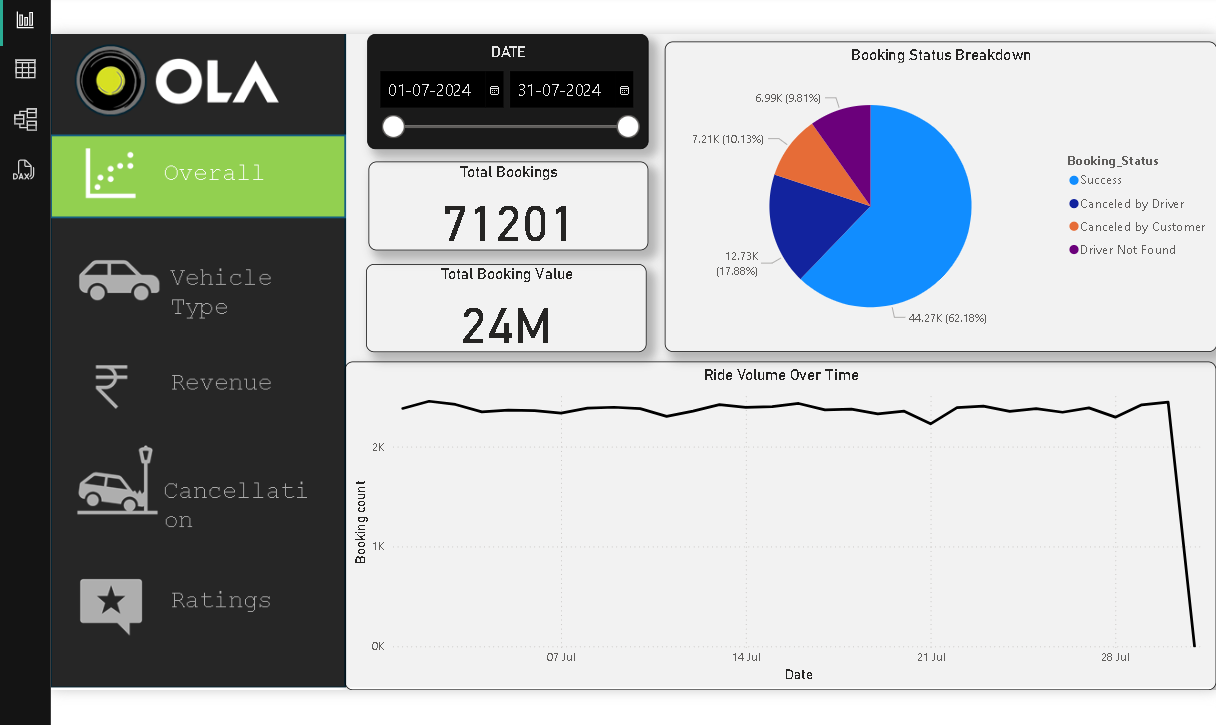

Layout of this report page (visuals, bound fields, positions):
{"tool":"powerbi","page":{"name":"overall","canvas":[1280,720],"ordinal":0},"visuals":[{"type":"actionButton","box":[0,325.2,322.7,88.3],"z":0},{"type":"actionButton","box":[0,455.2,322.7,88.3],"z":1000},{"type":"actionButton","box":[0,236.8,322.7,88.3],"z":2000},{"type":"actionButton","box":[0,112.9,322.7,88.3],"z":3000},{"type":"actionButton","box":[0,580.4,322.7,88.3],"z":4000},{"type":"lineChart","title":"Ride Volume Over Time","fields":{"Y":["CountNonNull(July.Booking_ID)"],"Category":["July.Date"]},"box":[322.7,359.5,957.1,360.7],"z":5000},{"type":"pieChart","title":"Booking Status Breakdown","fields":{"Category":["July.Booking_Status"],"Y":["CountNonNull(July.Booking_Status)"]},"box":[673.6,8.6,606.1,341.1],"z":6000},{"type":"slicer","title":"DATE","fields":{"Values":["July.Date"]},"box":[347.2,0,308.7,126.2],"z":7000},{"type":"card","title":"Total Bookings","fields":{"Values":["CountNonNull(July.Booking_ID)"]},"box":[348.5,140,307.4,97.4],"z":8000},{"type":"card","title":"Total Booking Value","fields":{"Values":["Sum(July.Booking_Value)"]},"box":[346,252.8,308,96.9],"z":9000}]}

Visuals, with their boxes on the page's 1280x720 design canvas (x1, y1, x2, y2). These are canvas units, not pixel positions in the 1216x725 screenshot, which may show the page scaled, cropped or inside an application window:
actionButton: l=0, t=325, r=323, b=414
actionButton: l=0, t=455, r=323, b=544
actionButton: l=0, t=237, r=323, b=325
actionButton: l=0, t=113, r=323, b=201
actionButton: l=0, t=580, r=323, b=669
"Ride Volume Over Time" lineChart: l=323, t=360, r=1280, b=720
"Booking Status Breakdown" pieChart: l=674, t=9, r=1280, b=350
"DATE" slicer: l=347, t=0, r=656, b=126
"Total Bookings" card: l=348, t=140, r=656, b=237
"Total Booking Value" card: l=346, t=253, r=654, b=350
